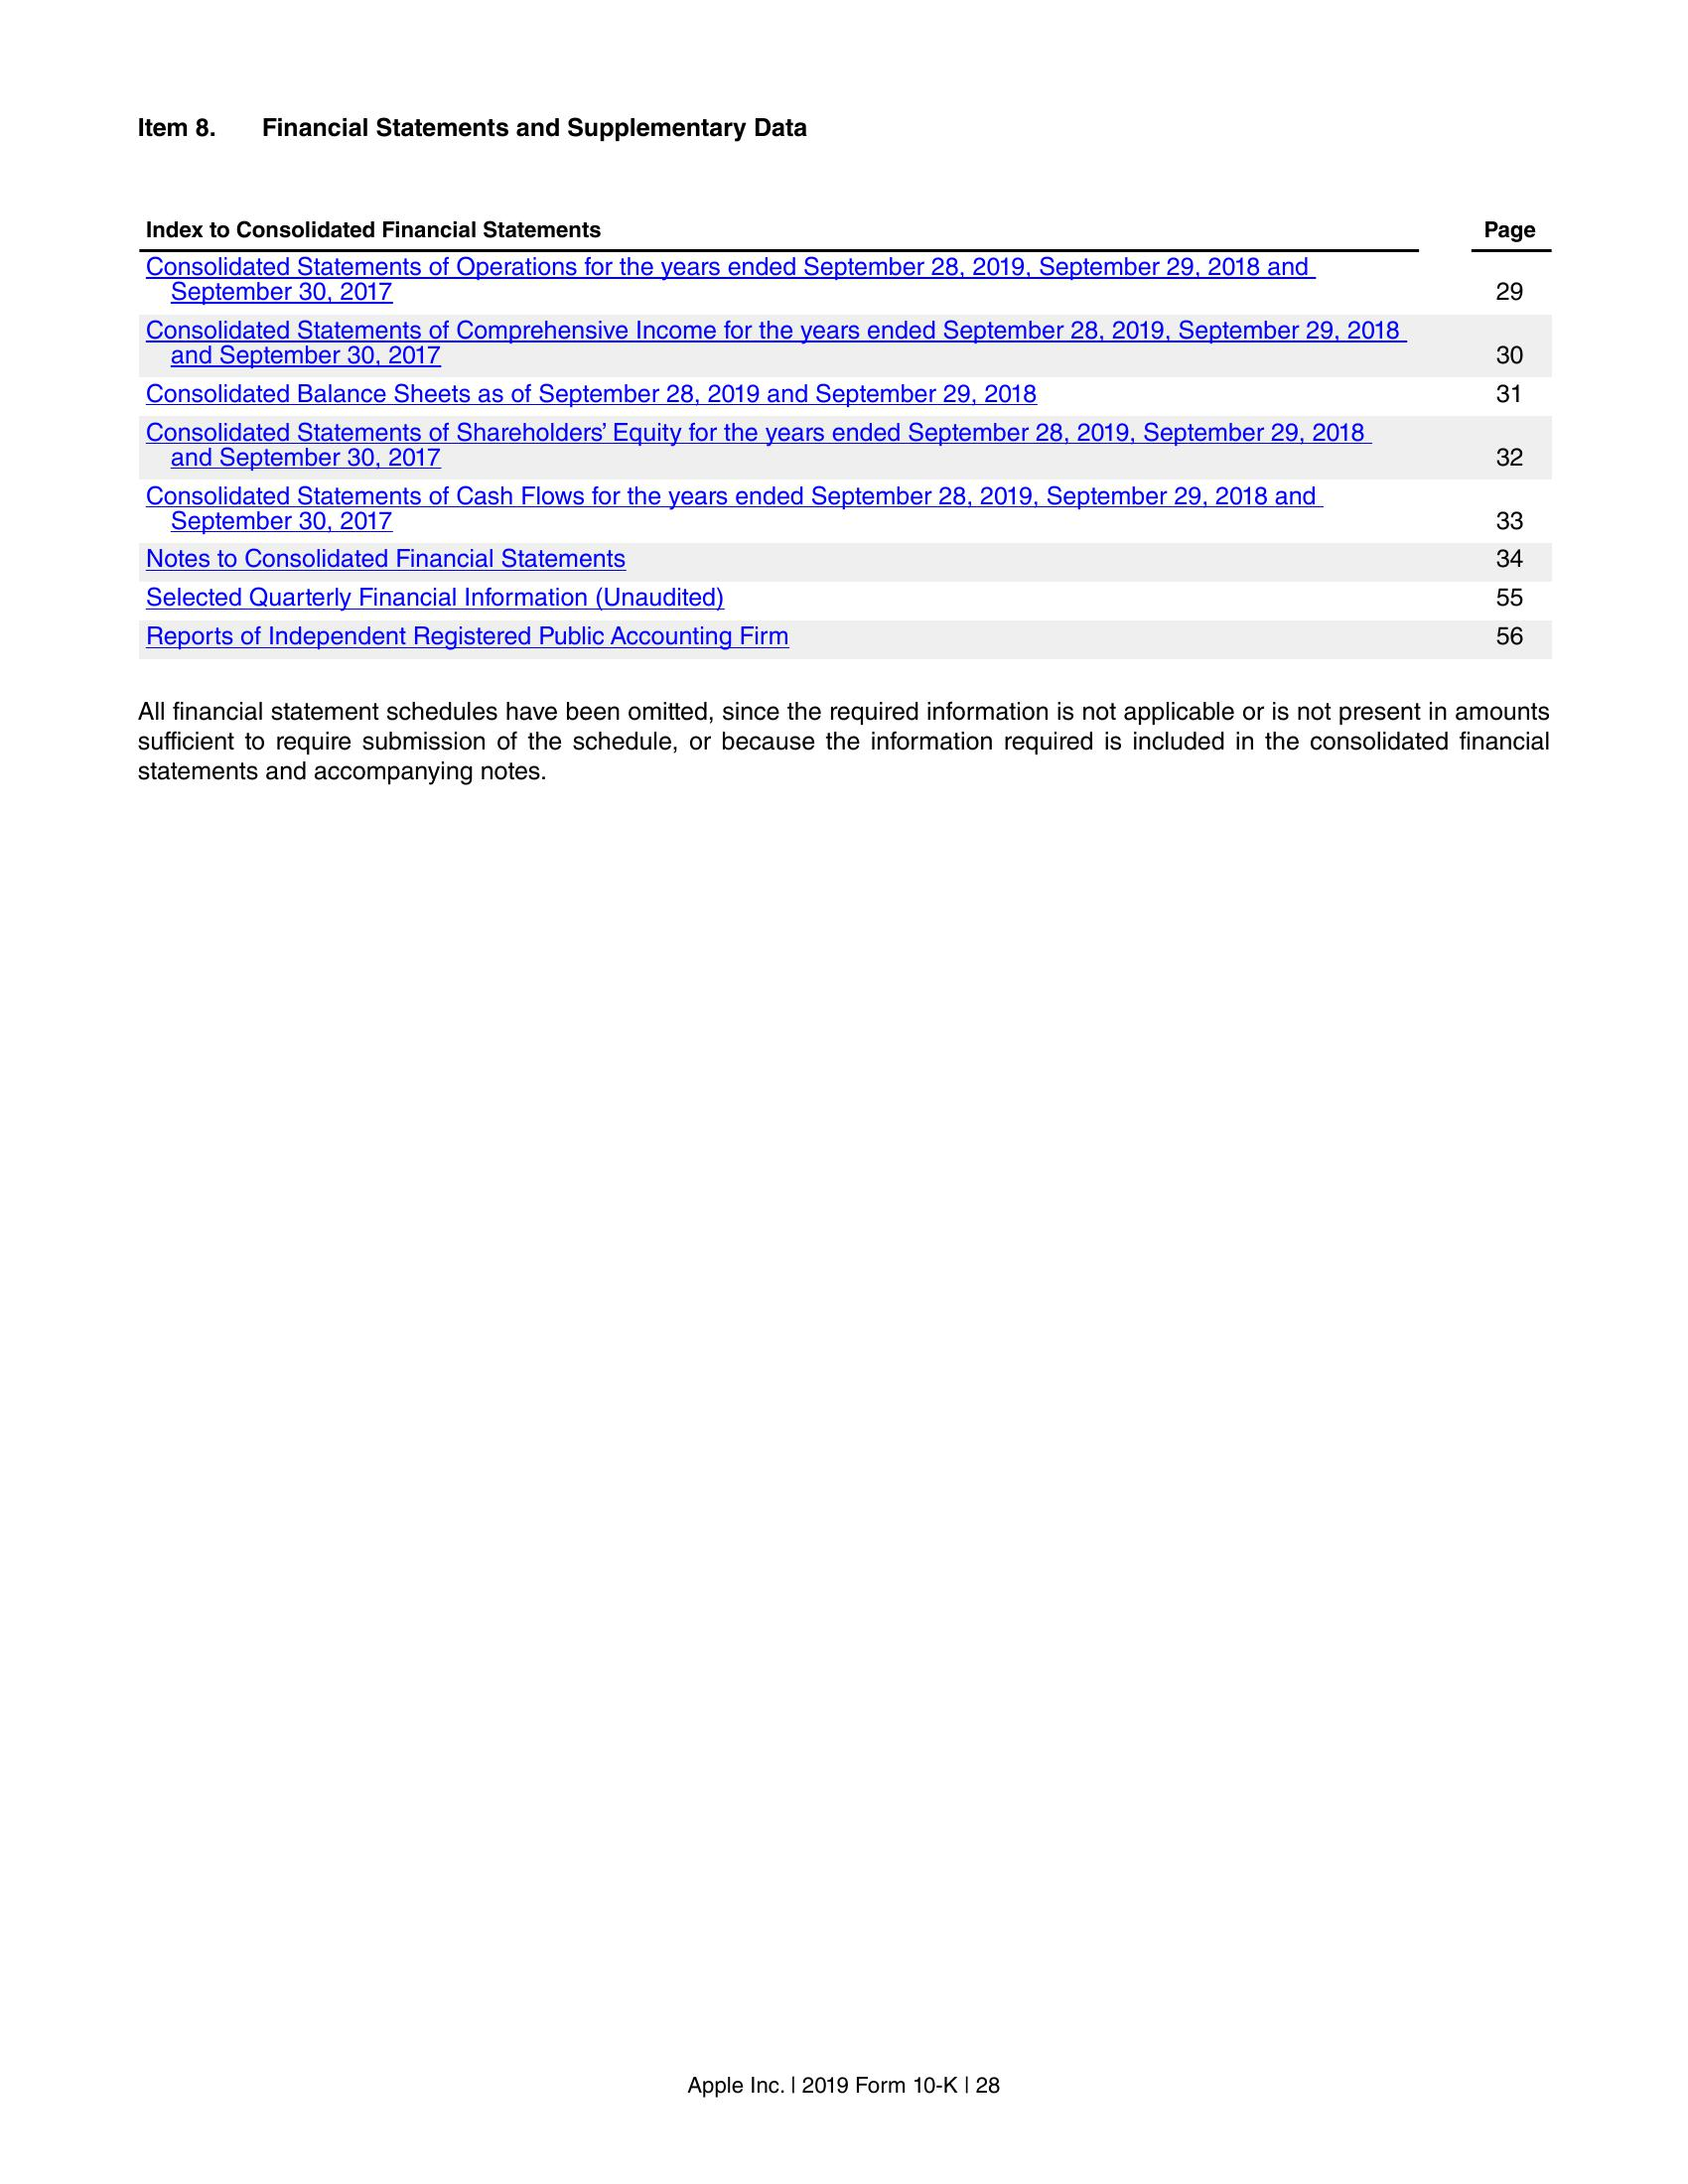table: (138, 214, 1553, 668)
